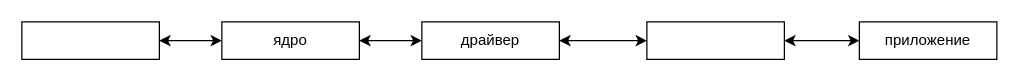
Image size: 1019x81. Some labels were removed from this diagram. Here are the shapes that lost their labels. From the top down, the centre of each, then its label:
(x=90, y=40): устройство
(x=715, y=40): VFS, спец файл
